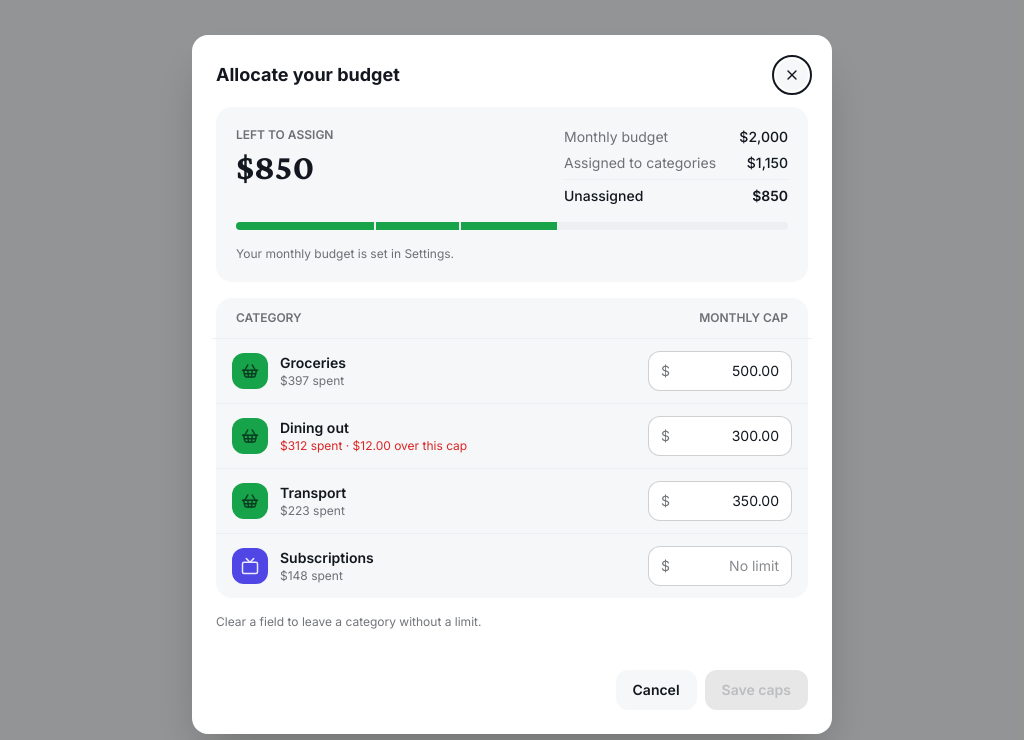
Test: validation › reports every offending row at once, and sends nothing
Step 1. Replace the text in the field labelled "$" in the row of "Groceries" with "0" → (728, 370), box [678,352,779,390]
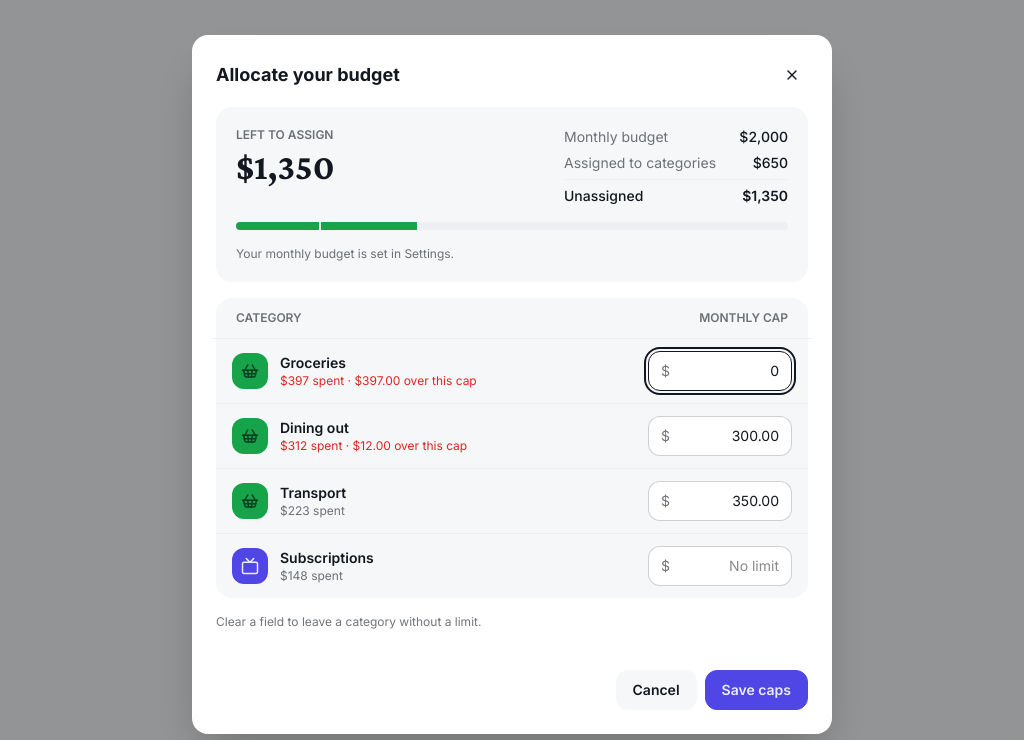
Step 2. Replace the text in the field labelled "$" in the row of "Transport" with "0" → (728, 500), box [678,482,779,520]
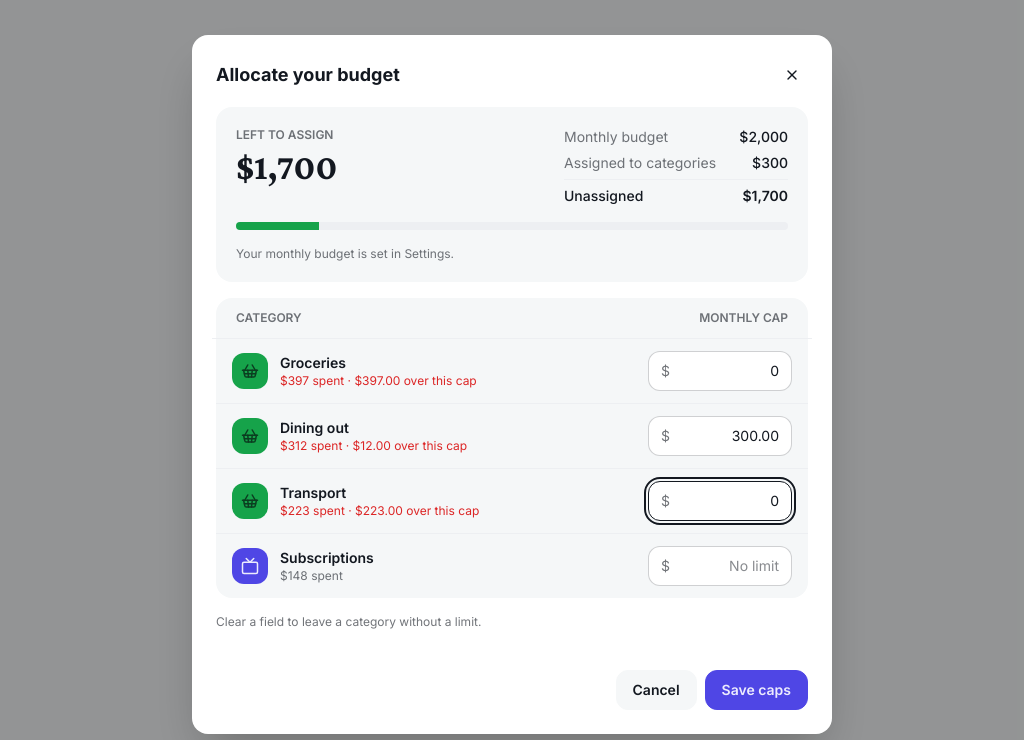
Step 3. Click the button "Save caps" → click(756, 690), box [705,670,808,710]
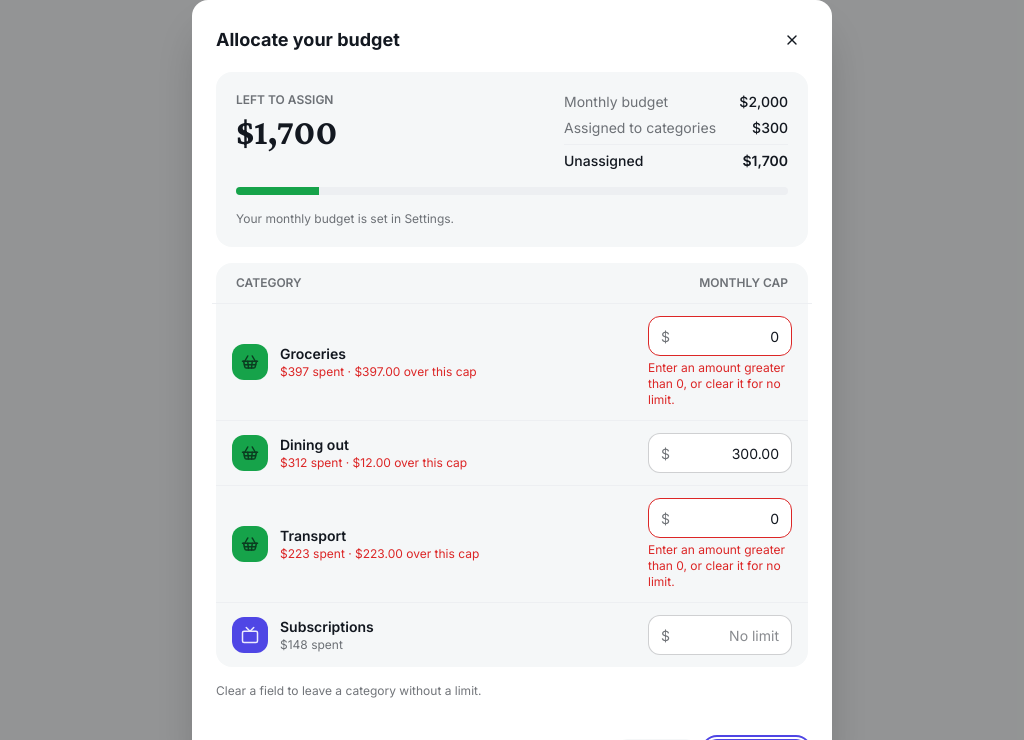
expect the text "Enter an amount greater than 0, or clear it for no limit." is shown 2 times: met, box [648,360,792,408]; [648,542,792,590]
